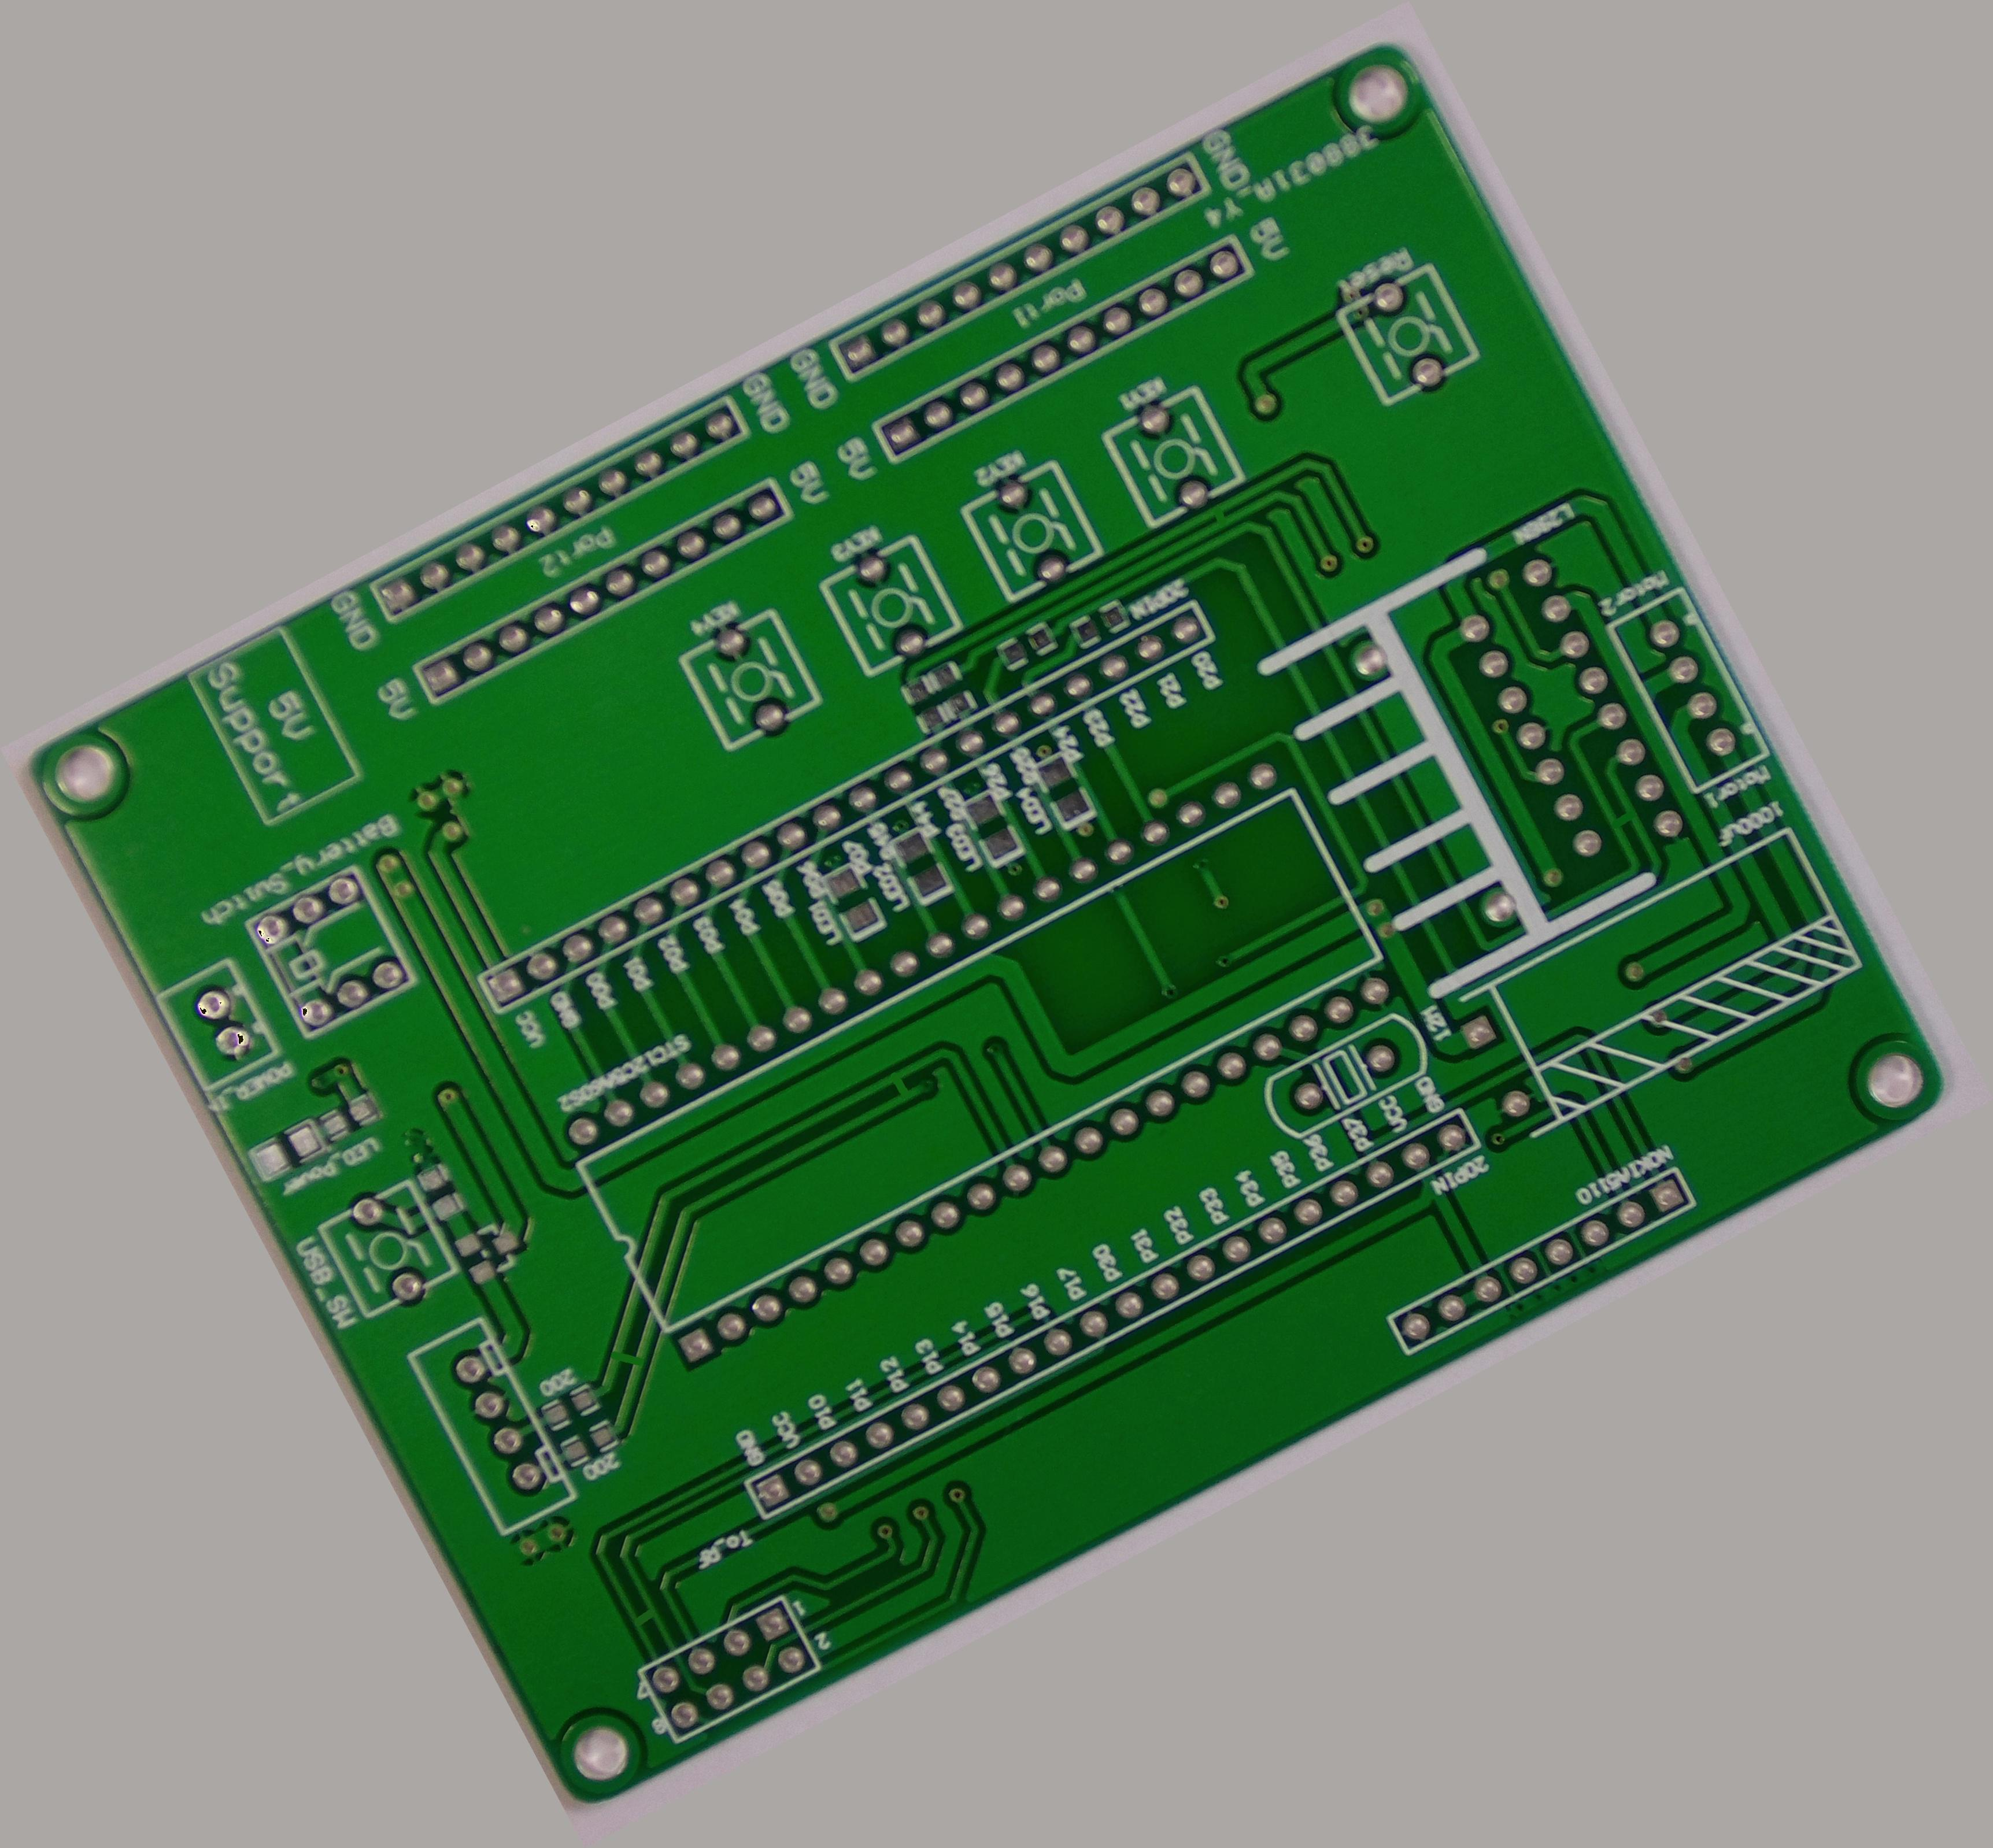short: (869, 1058, 931, 1120), (599, 1330, 657, 1386), (619, 1593, 671, 1641), (1600, 797, 1645, 842), (1194, 495, 1239, 538)
